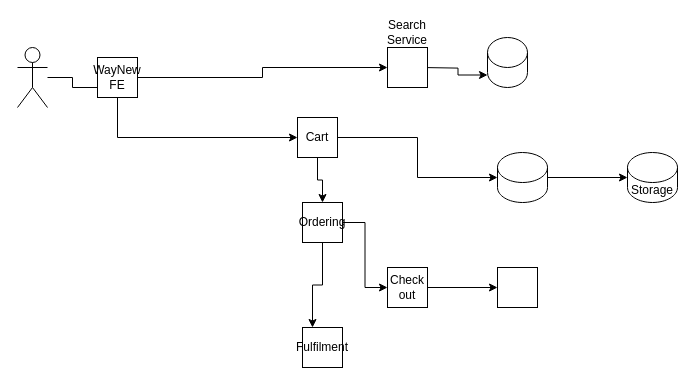
This 695x385 diagram has some shape labels left out. The shapes that lost their labels are listed below. From the top down, each one's box as (x1, y1, x2, y2) in pixels, then its label:
(16, 46, 48, 108): Actor
(496, 152, 548, 202): Cache
(496, 266, 538, 308): Payment
